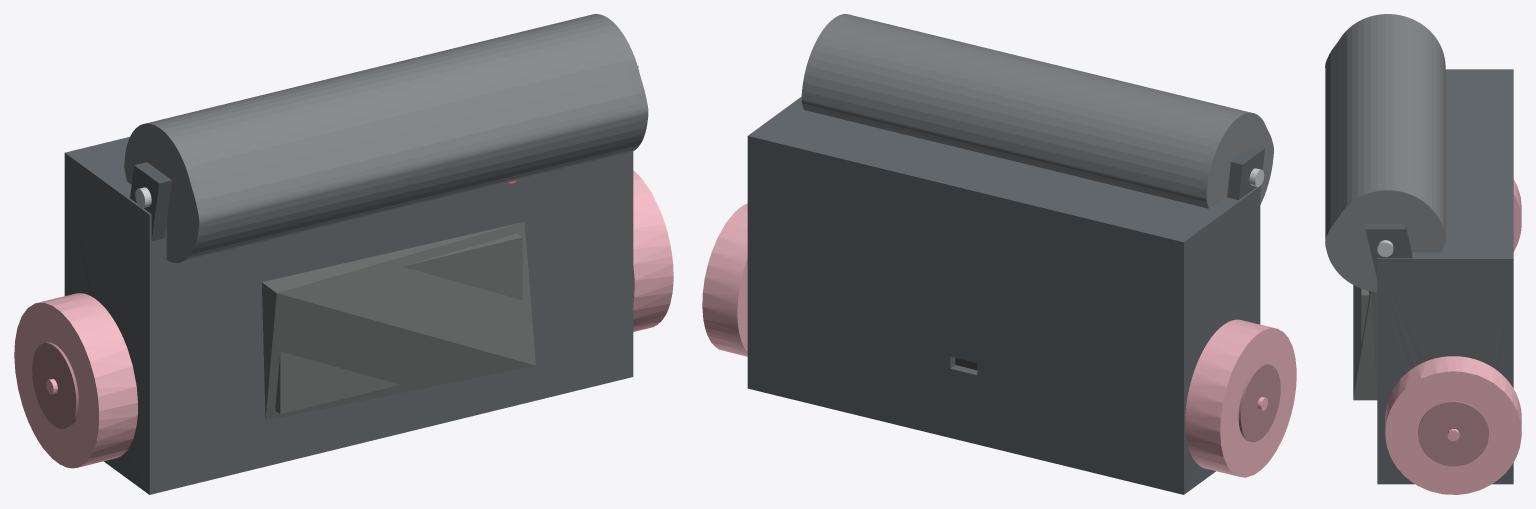
Rendered from recycler.glb.
The picture shows the model from 3 angles, left to right: view 1: azimuth 30°, elevation 25°; view 2: azimuth 150°, elevation 25°; view 3: azimuth 270°, elevation 25°; orthographic projection. The views are drawn at different scales.
Parts seen in each view (by area): view 1: chassis, weapon, lid, wheel_r0, wheel_l0, dt_hub_wheel_r0, dt_arm_weapon_0; view 2: chassis, weapon, wheel_r0, wheel_l0, dt_hub_wheel_r0, dt_arm_weapon_0; view 3: chassis, weapon, wheel_l0, dt_hub_wheel_l0, lid, dt_arm_weapon_1, wheel_r0, dt_shaft_weapon.
Boxes of the visible parts, x1,y1,x2,y2 form: chassis: (64,137,633,494); weapon: (124,14,648,262); lid: (261,222,535,420); wheel_r0: (14,293,137,468); wheel_l0: (633,170,673,331); dt_hub_wheel_r0: (32,342,78,429); dt_arm_weapon_0: (130,162,171,240); chassis: (747,96,1260,494); weapon: (801,14,1273,208); wheel_r0: (1185,319,1296,477); wheel_l0: (702,203,747,356); dt_hub_wheel_r0: (1238,364,1280,442); dt_arm_weapon_0: (1227,145,1264,200); chassis: (1377,69,1513,484); weapon: (1325,14,1445,292); wheel_l0: (1385,356,1521,494); dt_hub_wheel_l0: (1418,401,1488,466); lid: (1353,285,1377,400); dt_arm_weapon_1: (1365,224,1412,278); wheel_r0: (1513,179,1521,251); dt_shaft_weapon: (1377,240,1393,256).
Bounding box in the file's own units: 136 × 79.07 × 49.04.
